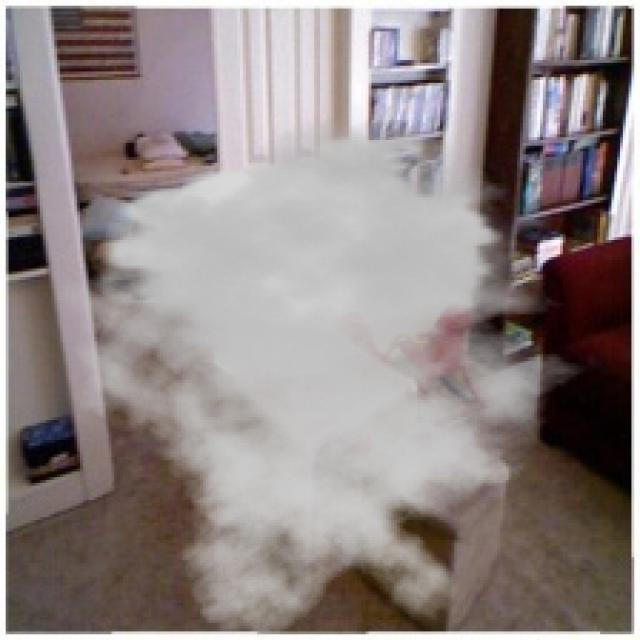smoke: (49, 117, 612, 637)
